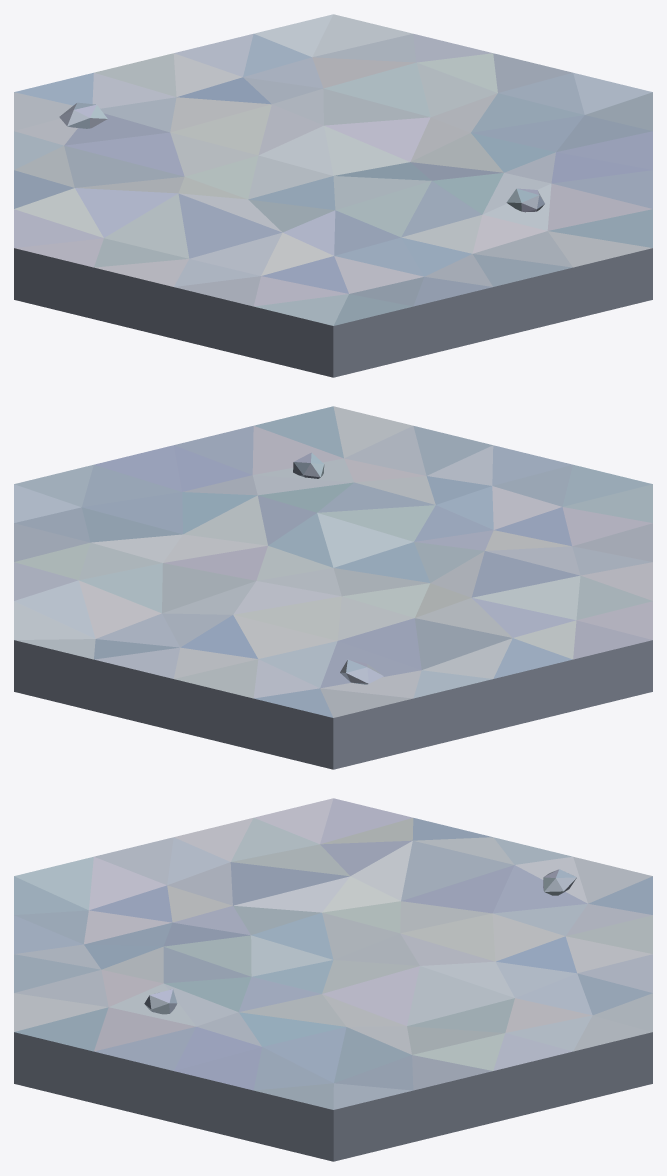
Rendered from Snow2.glb.
3 views of the same model, one above another, from view 1: azimuth 30°, elevation 25°; view 2: azimuth 150°, elevation 25°; view 3: azimuth 270°, elevation 25° (orthographic).
Visible parts, largest first — view 1: Snow2; view 2: Snow2; view 3: Snow2.
Boxes of the visible parts, box(x1,y1,x2,y2) form: Snow2: box(14, 14, 652, 377); Snow2: box(14, 406, 652, 769); Snow2: box(14, 798, 652, 1161).
Size of the model in its own units: 1.94 by 0.1942 by 1.68.
